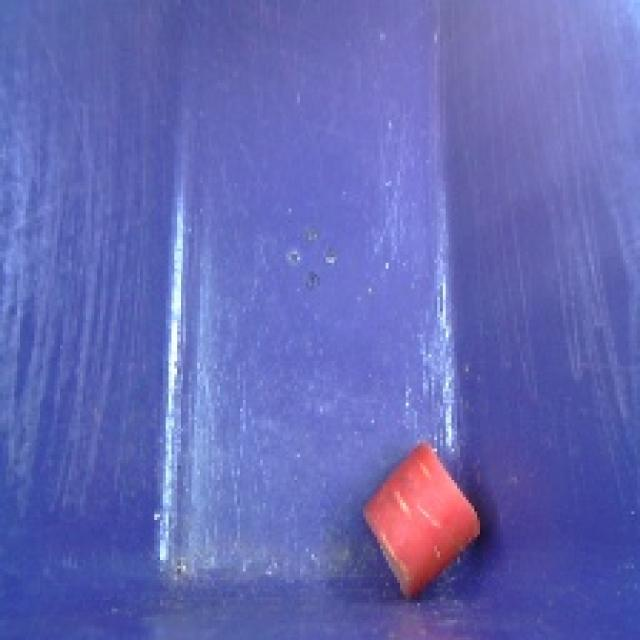carrots: (357, 433, 490, 609)
